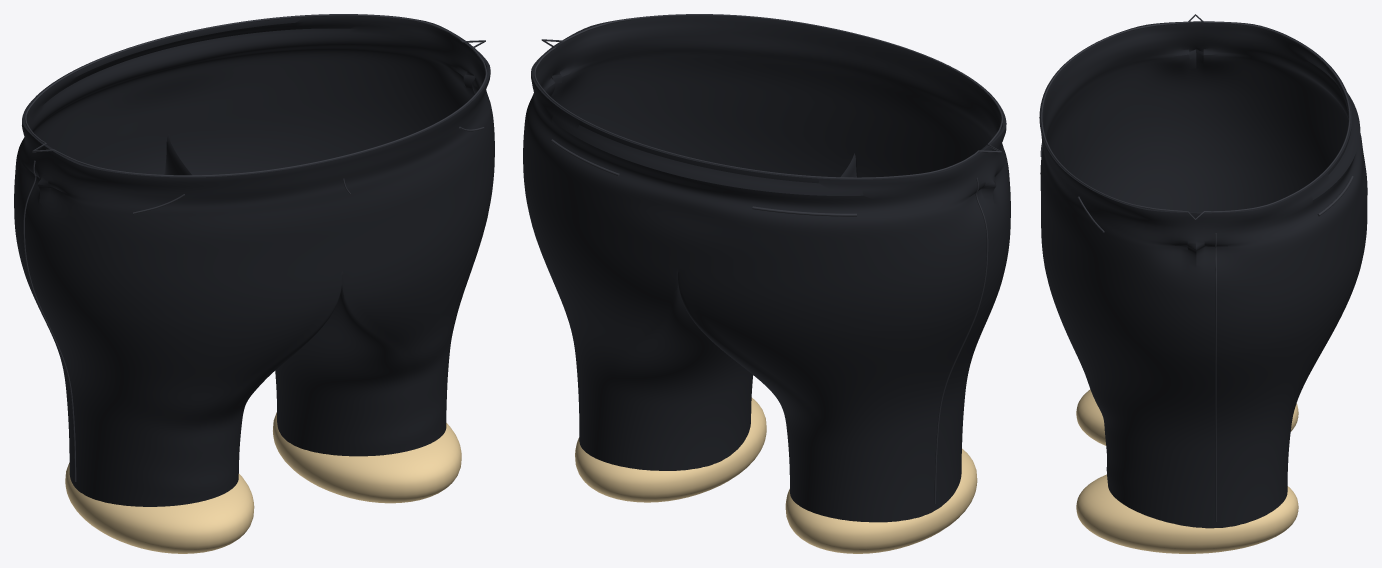
The model's file is Feminine-pants-bottom.glb.
3 renders of one model, left to right at view 1: azimuth 30°, elevation 25°; view 2: azimuth 150°, elevation 25°; view 3: azimuth 270°, elevation 25°, orthographic. The views are drawn at different scales.
Visible parts, largest first — view 1: Bottom / continuous pants187, Skin / pants foot187 -1, Skin / pants foot187 1, Bottom / pants hem187 0 export, Bottom / side seam187 -1 export; view 2: Bottom / continuous pants187, Skin / pants foot187 1, Skin / pants foot187 -1, Bottom / pants hem187 0 export, Bottom / side seam187 -1 export; view 3: Bottom / continuous pants187, Skin / pants foot187 1, Bottom / pants hem187 0 export, Skin / pants foot187 -1, Bottom / side seam187 1 export.
Part boxes in pixels (bbox=[...]): Bottom / continuous pants187: bbox=[14, 14, 494, 506]; Skin / pants foot187 -1: bbox=[65, 462, 254, 553]; Skin / pants foot187 1: bbox=[273, 412, 461, 503]; Bottom / pants hem187 0 export: bbox=[24, 14, 487, 176]; Bottom / side seam187 -1 export: bbox=[23, 160, 76, 481]; Bottom / continuous pants187: bbox=[523, 15, 1010, 522]; Skin / pants foot187 1: bbox=[575, 397, 766, 502]; Skin / pants foot187 -1: bbox=[785, 448, 977, 553]; Bottom / pants hem187 0 export: bbox=[534, 14, 1003, 178]; Bottom / side seam187 -1 export: bbox=[934, 177, 988, 503]; Bottom / continuous pants187: bbox=[1039, 21, 1367, 528]; Skin / pants foot187 1: bbox=[1076, 474, 1298, 553]; Bottom / pants hem187 0 export: bbox=[1040, 14, 1350, 220]; Skin / pants foot187 -1: bbox=[1076, 389, 1298, 445]; Bottom / side seam187 1 export: bbox=[1215, 233, 1216, 521].
Size of the model in its own units: 0.6081 by 0.516 by 0.4099.
